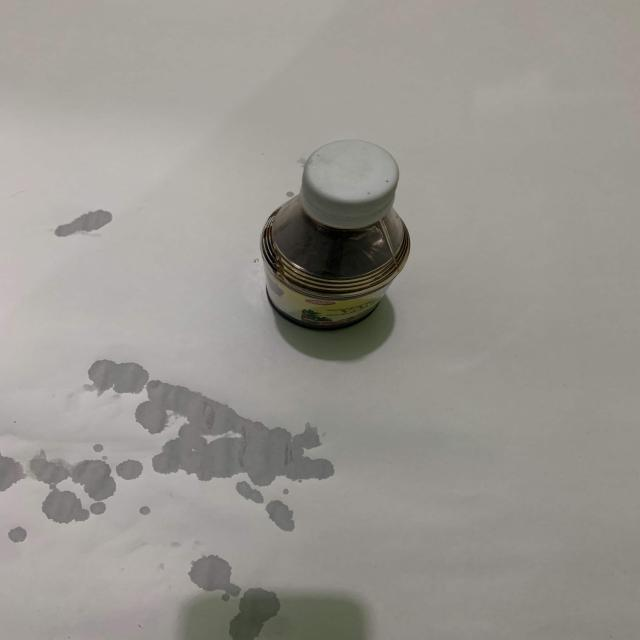bottle: (246, 134, 425, 338)
